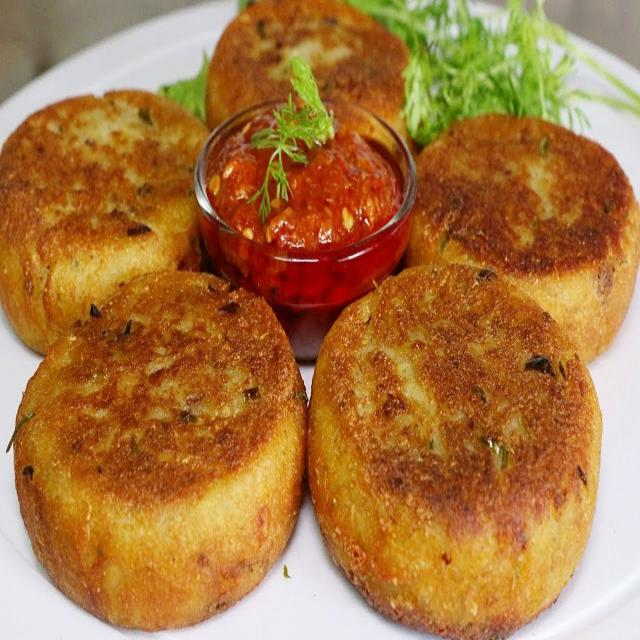Aloo Tikki: (307, 265, 601, 640), (15, 268, 310, 628), (404, 116, 640, 367), (0, 86, 218, 351), (204, 0, 410, 169)
